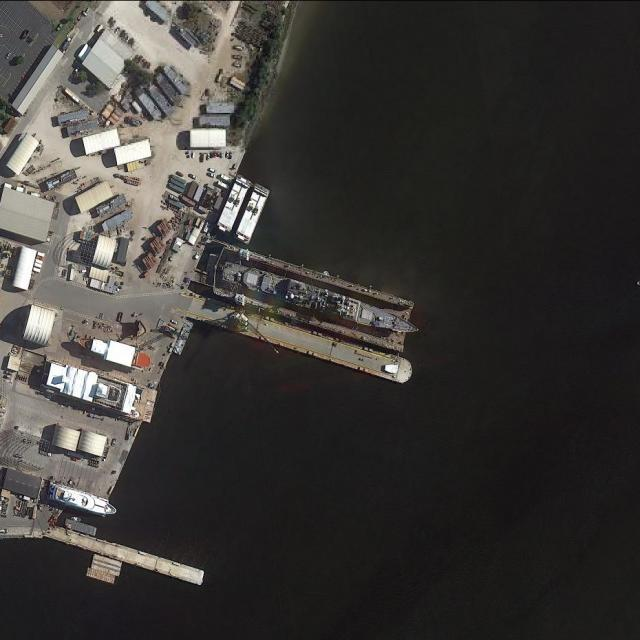Cruiser: (219, 257, 420, 344)
Dock: (180, 290, 416, 387), (45, 524, 209, 586)
Yacht: (53, 485, 119, 517)
